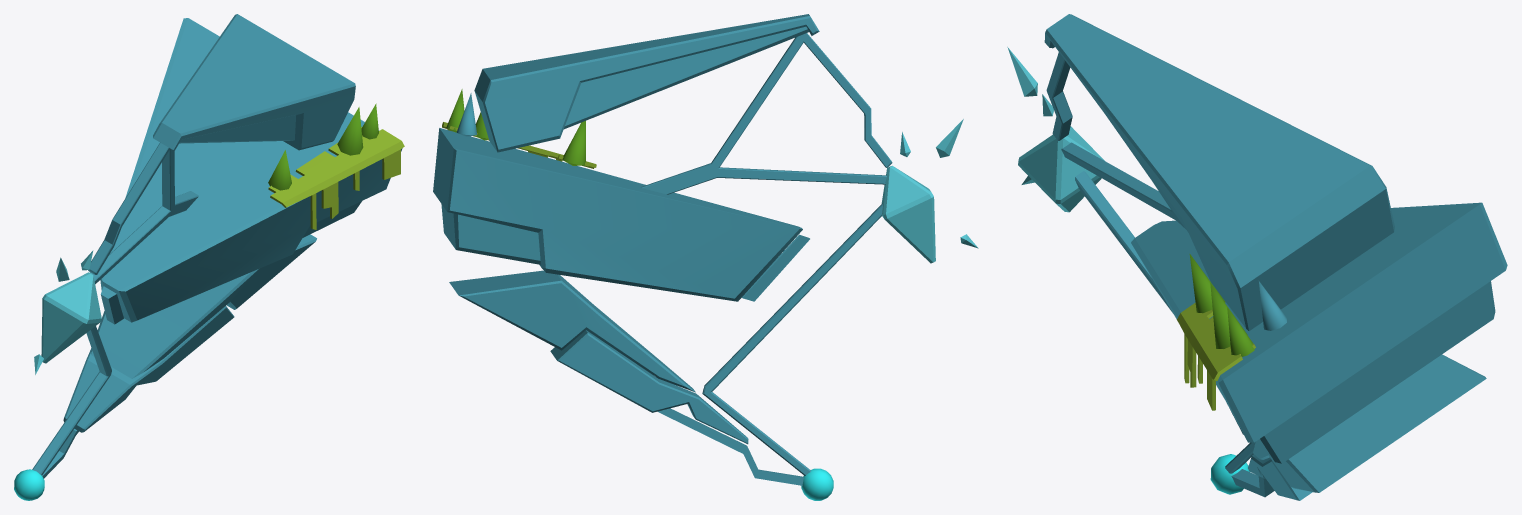
The model's file is Tech_Planet_Geo_Diamond.fbx.
3 views of the same model, side by side, from view 1: azimuth 30°, elevation 25°; view 2: azimuth 150°, elevation 25°; view 3: azimuth 270°, elevation 25° (orthographic). The views are drawn at different scales.
Visible parts, largest first — view 1: Planet_GeoDiamond_Mesh; view 2: Planet_GeoDiamond_Mesh; view 3: Planet_GeoDiamond_Mesh.
Part boxes in pixels (x1,y1,x2,y2): Planet_GeoDiamond_Mesh: [14, 14, 404, 500]; Planet_GeoDiamond_Mesh: [433, 14, 978, 500]; Planet_GeoDiamond_Mesh: [1007, 14, 1507, 500].
Bounding box in the file's own units: 6.72 × 5.86 × 5.09.
